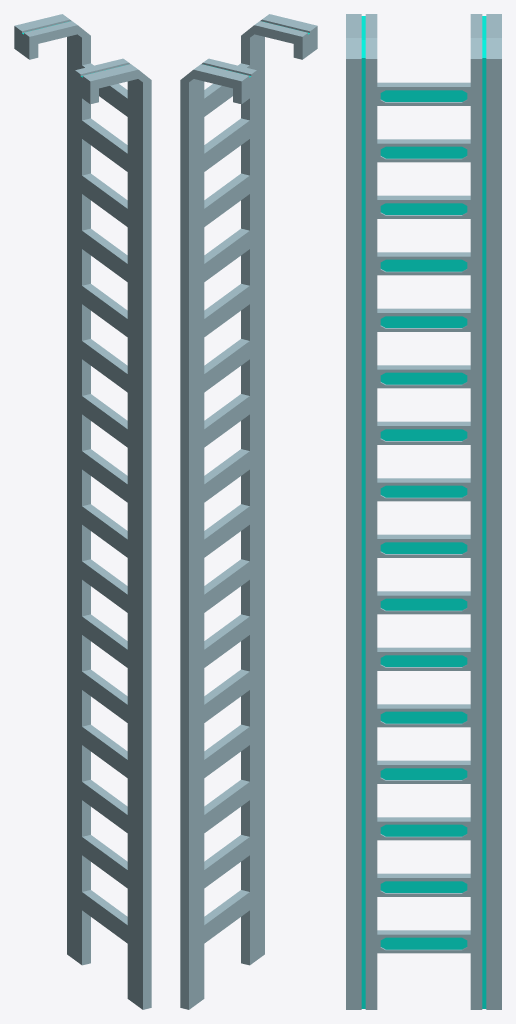
Rendered from ladder.fbx.
3 renders of one model, left to right at view 1: azimuth 30°, elevation 25°; view 2: azimuth 150°, elevation 25°; view 3: azimuth 270°, elevation 25°, orthographic. The views are drawn at different scales.
Parts seen in each view (by area): view 1: ladder; view 2: ladder; view 3: ladder.
Part boxes in pixels (bbox=[...]): ladder: bbox=[14, 14, 151, 1009]; ladder: bbox=[180, 14, 317, 1009]; ladder: bbox=[346, 14, 501, 1009].
Bounding box in the file's own units: 7 × 102 × 15.
